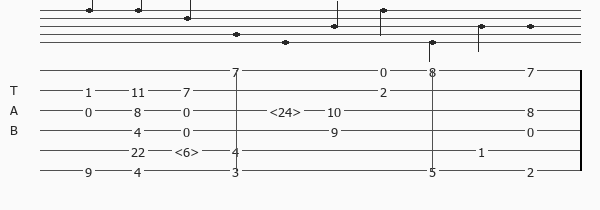0: (85, 104, 96, 117), (183, 104, 194, 117), (183, 124, 194, 137), (380, 64, 391, 77), (527, 124, 538, 137)
1: (85, 84, 96, 97), (478, 144, 489, 157)
10: (327, 104, 345, 117)
11: (131, 84, 149, 97)
2: (380, 84, 391, 97), (527, 164, 538, 177)
22: (131, 144, 149, 157)
3: (232, 164, 243, 177)
4: (134, 124, 145, 137), (134, 164, 145, 177), (232, 144, 243, 157)
5: (429, 164, 440, 177)
7: (183, 84, 194, 97), (232, 64, 243, 77), (527, 64, 538, 77)
8: (134, 104, 145, 117), (429, 64, 440, 77), (527, 104, 538, 117)
9: (85, 164, 96, 177), (331, 124, 342, 137)
harmonic: (269, 104, 305, 117), (174, 144, 203, 157)
